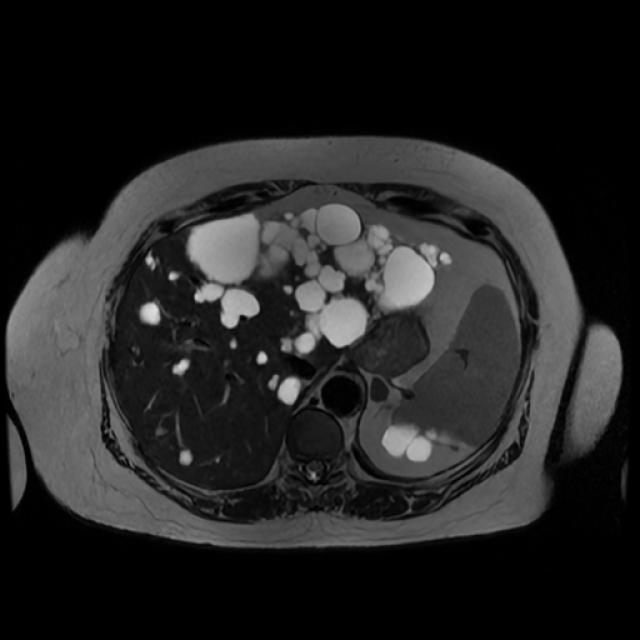sol: (382, 422, 461, 465)
